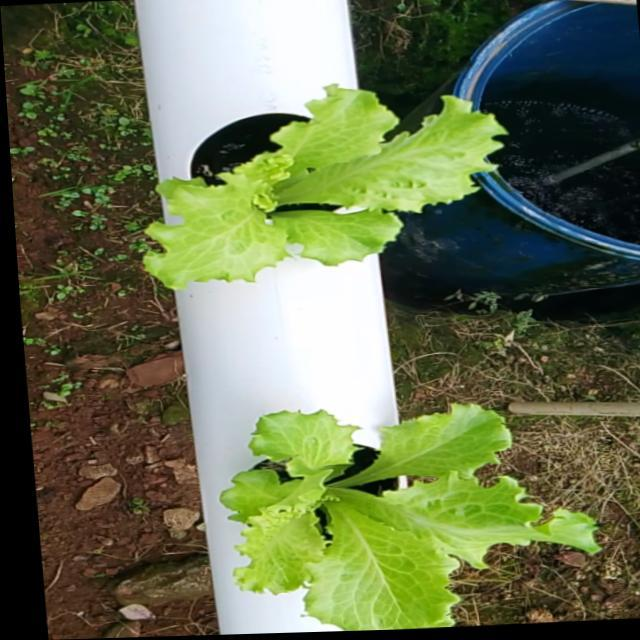Baby: (227, 386, 605, 630), (152, 58, 522, 265)
